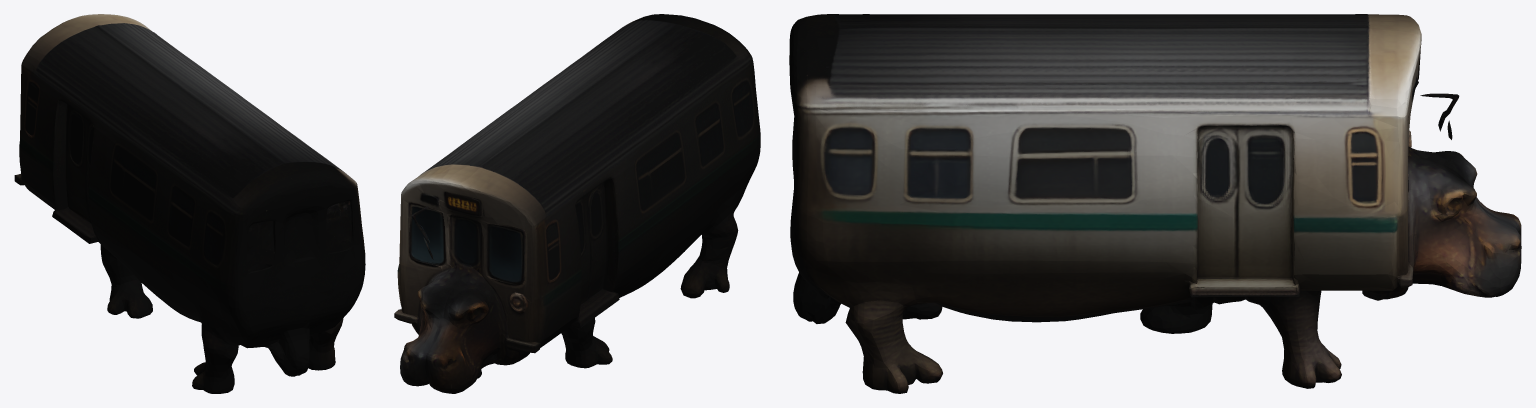
Rendered from sample.glb.
3 views of the same model, side by side, from view 1: azimuth 30°, elevation 25°; view 2: azimuth 150°, elevation 25°; view 3: azimuth 270°, elevation 25° (orthographic). The views are drawn at different scales.
Parts seen in each view (by area): view 1: world; view 2: world; view 3: world.
Part boxes in pixels (x1=…): world: x1=14, y1=14, x2=365, y2=393; world: x1=394, y1=14, x2=760, y2=393; world: x1=789, y1=14, x2=1521, y2=393.
Size of the model in its own units: 0.3176 by 0.4815 by 0.9993.
Materials: 1 (1 with a texture image).
